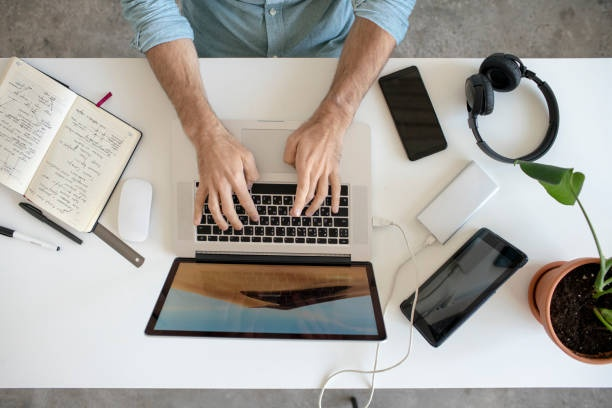keyboard: (193, 180, 350, 247)
laptop: (143, 122, 389, 340)
phone: (402, 228, 527, 350)
